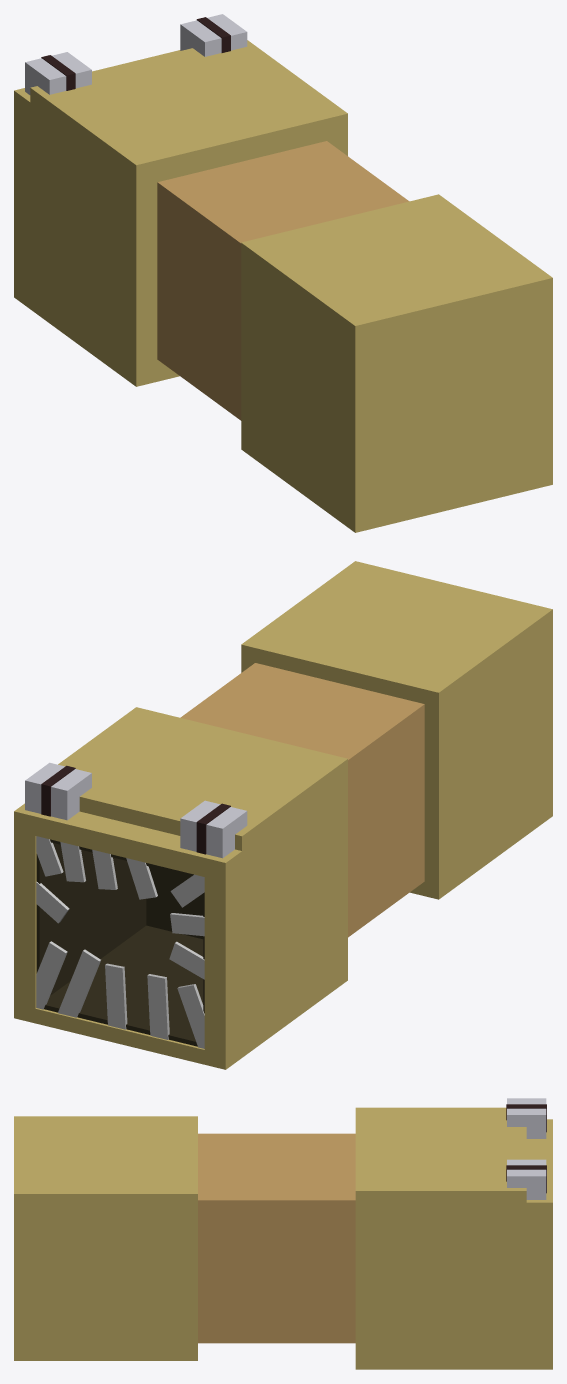
Rendered from Skraken.obj.
3 views of the same model, one above another, from view 1: azimuth 30°, elevation 25°; view 2: azimuth 150°, elevation 25°; view 3: azimuth 270°, elevation 25° (orthographic). The views are drawn at different scales.
Visible parts, largest first — view 1: Segment_2, Segment_1, HeadPart_2_, HeadPart_6_, HeadPart_1_, Eye_2_, Eye_4_; view 2: Segment_2, HeadPart_2_, Segment_1, HeadPart_6_, HeadPart_1_, HeadBlack_3_, HeadBlack_1_, HeadPart_3_, HeadPart_4_, Eye_2_, Eye_4_, HeadBlack_5_ (+13 smaller); view 3: Segment_2, Segment_1, HeadPart_3_, HeadPart_6_, HeadPart_1_, Eye_2_, Eye_4_.
Boxes of the visible parts, x1,y1,x2,y2 form: Segment_2: [241, 194, 552, 532]; Segment_1: [157, 141, 409, 420]; HeadPart_2_: [14, 110, 157, 386]; HeadPart_6_: [30, 40, 347, 179]; HeadPart_1_: [14, 50, 347, 199]; Eye_2_: [25, 52, 91, 94]; Eye_4_: [180, 14, 247, 56]; Segment_2: [241, 561, 552, 899]; HeadPart_2_: [204, 793, 347, 1069]; Segment_1: [180, 663, 424, 937]; HeadPart_6_: [58, 707, 347, 854]; HeadPart_1_: [14, 774, 347, 882]; HeadBlack_3_: [36, 843, 146, 995]; HeadBlack_1_: [44, 925, 203, 1046]; HeadPart_3_: [14, 830, 36, 1023]; HeadPart_4_: [35, 1008, 204, 1064]; Eye_2_: [180, 800, 247, 858]; Eye_4_: [25, 762, 91, 820]; HeadBlack_5_: [146, 866, 203, 939]; Segment_2: [14, 1116, 197, 1360]; Segment_1: [198, 1133, 355, 1343]; HeadPart_3_: [355, 1218, 552, 1369]; HeadPart_6_: [355, 1107, 526, 1206]; HeadPart_1_: [355, 1119, 552, 1218]; Eye_2_: [507, 1098, 546, 1138]; Eye_4_: [507, 1159, 546, 1199].
Size of the model in its own units: 30 by 32.1 by 82.
